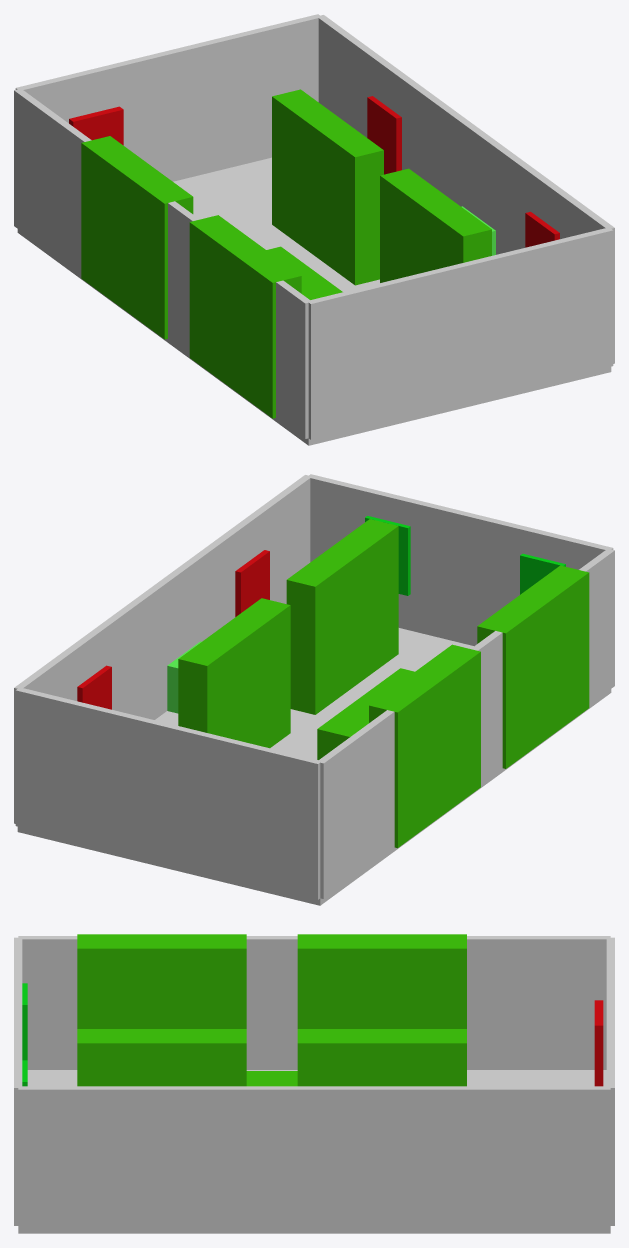
The model's file is Official_Scene_3_Study.gltf.
3 renders of one model, top to bottom at view 1: azimuth 30°, elevation 25°; view 2: azimuth 150°, elevation 25°; view 3: azimuth 270°, elevation 25°, orthographic.
Visible parts, largest first — view 1: Ground2; view 2: Ground2; view 3: Ground2.
Boxes of the visible parts, x1,y1,x2,y2 form: Ground2: (14, 14, 614, 445); Ground2: (14, 474, 614, 905); Ground2: (14, 934, 614, 1233).
Size of the model in its own units: 43.46 by 19 by 71.
